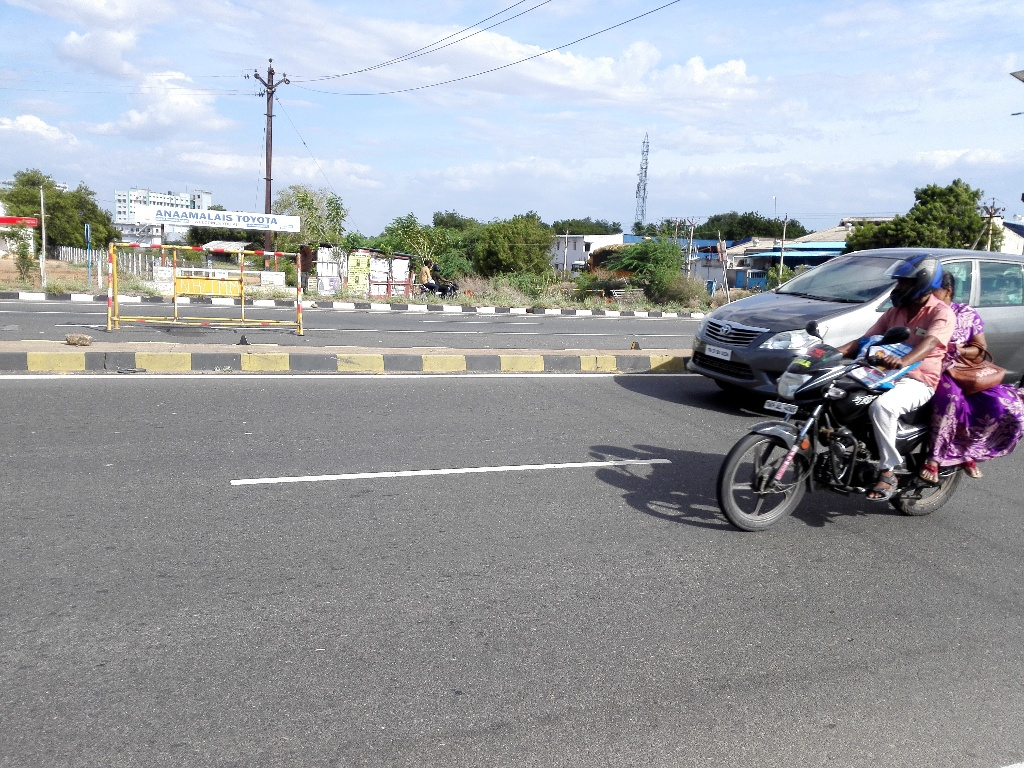biker: (697, 220, 1024, 546)
helmet: (885, 245, 939, 319)
nohelmet: (937, 268, 968, 315)
